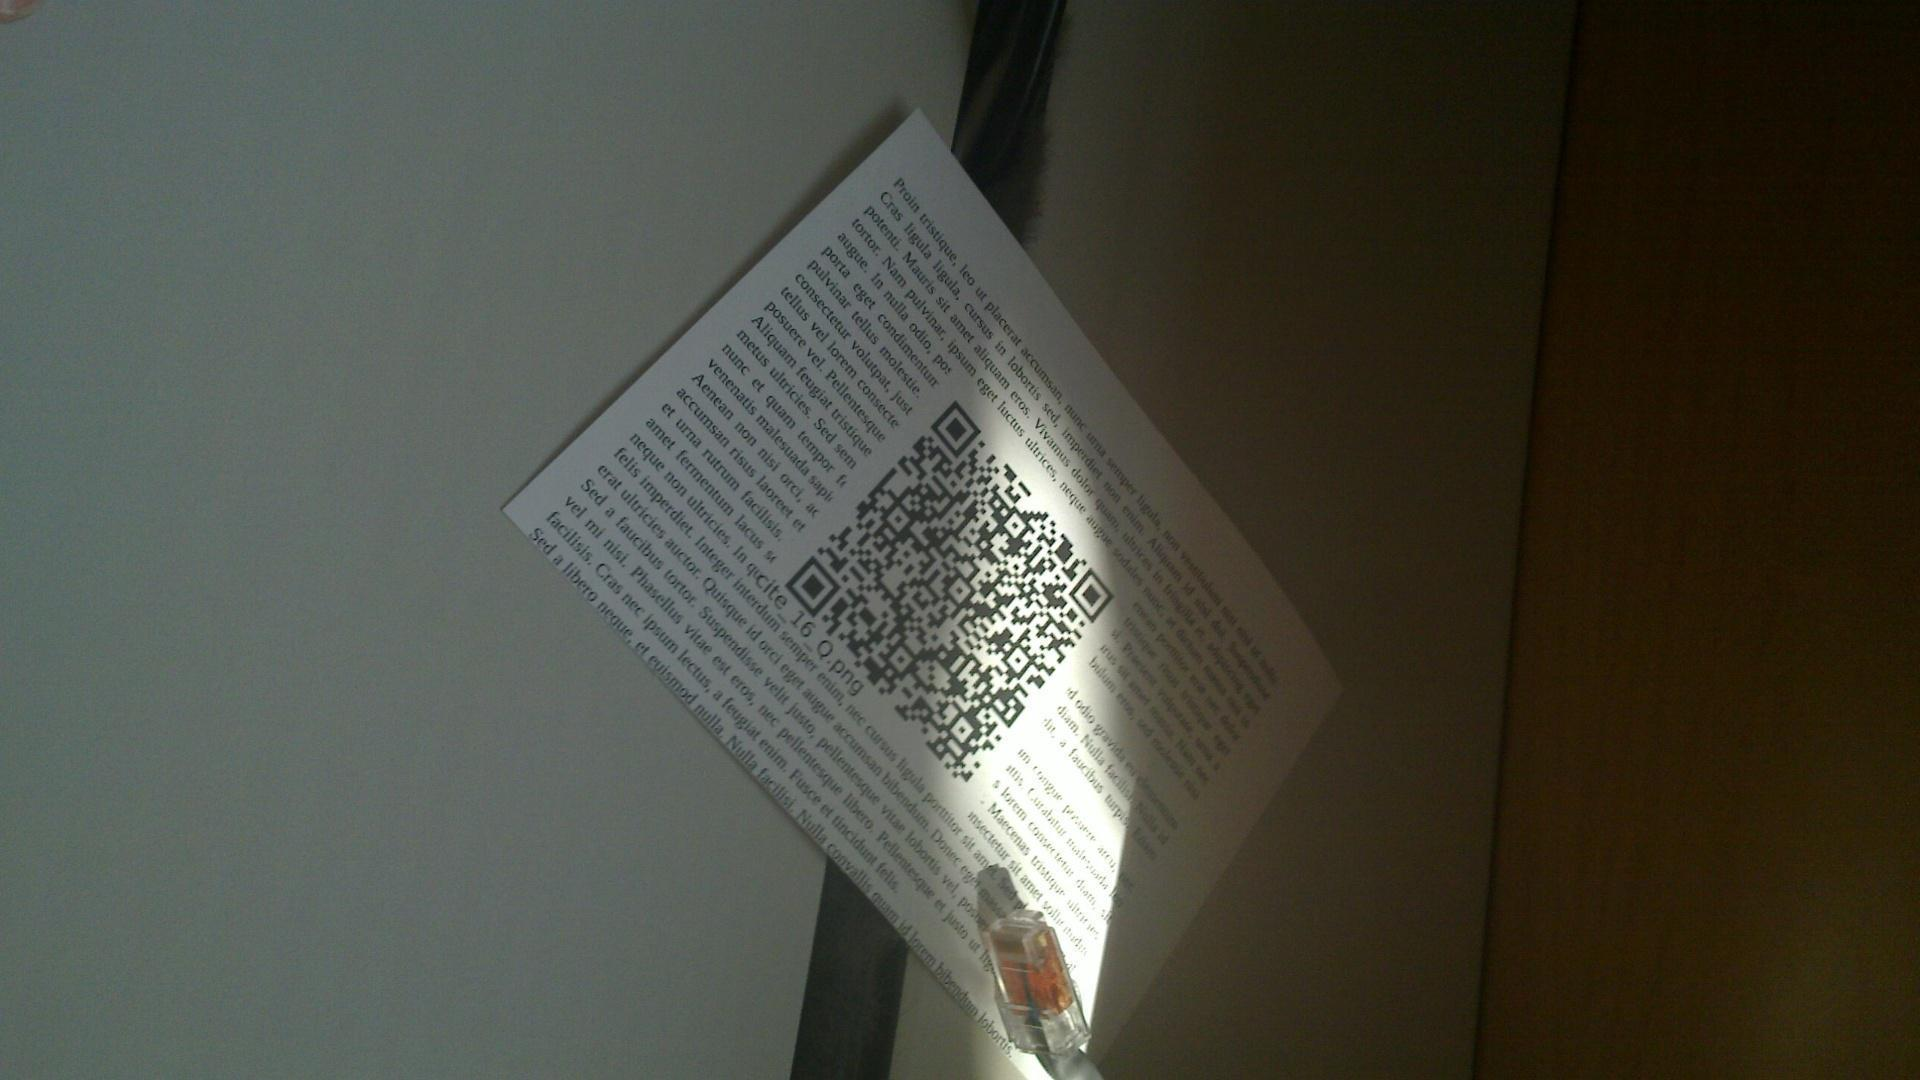qr_code: (783, 401, 1113, 785)
